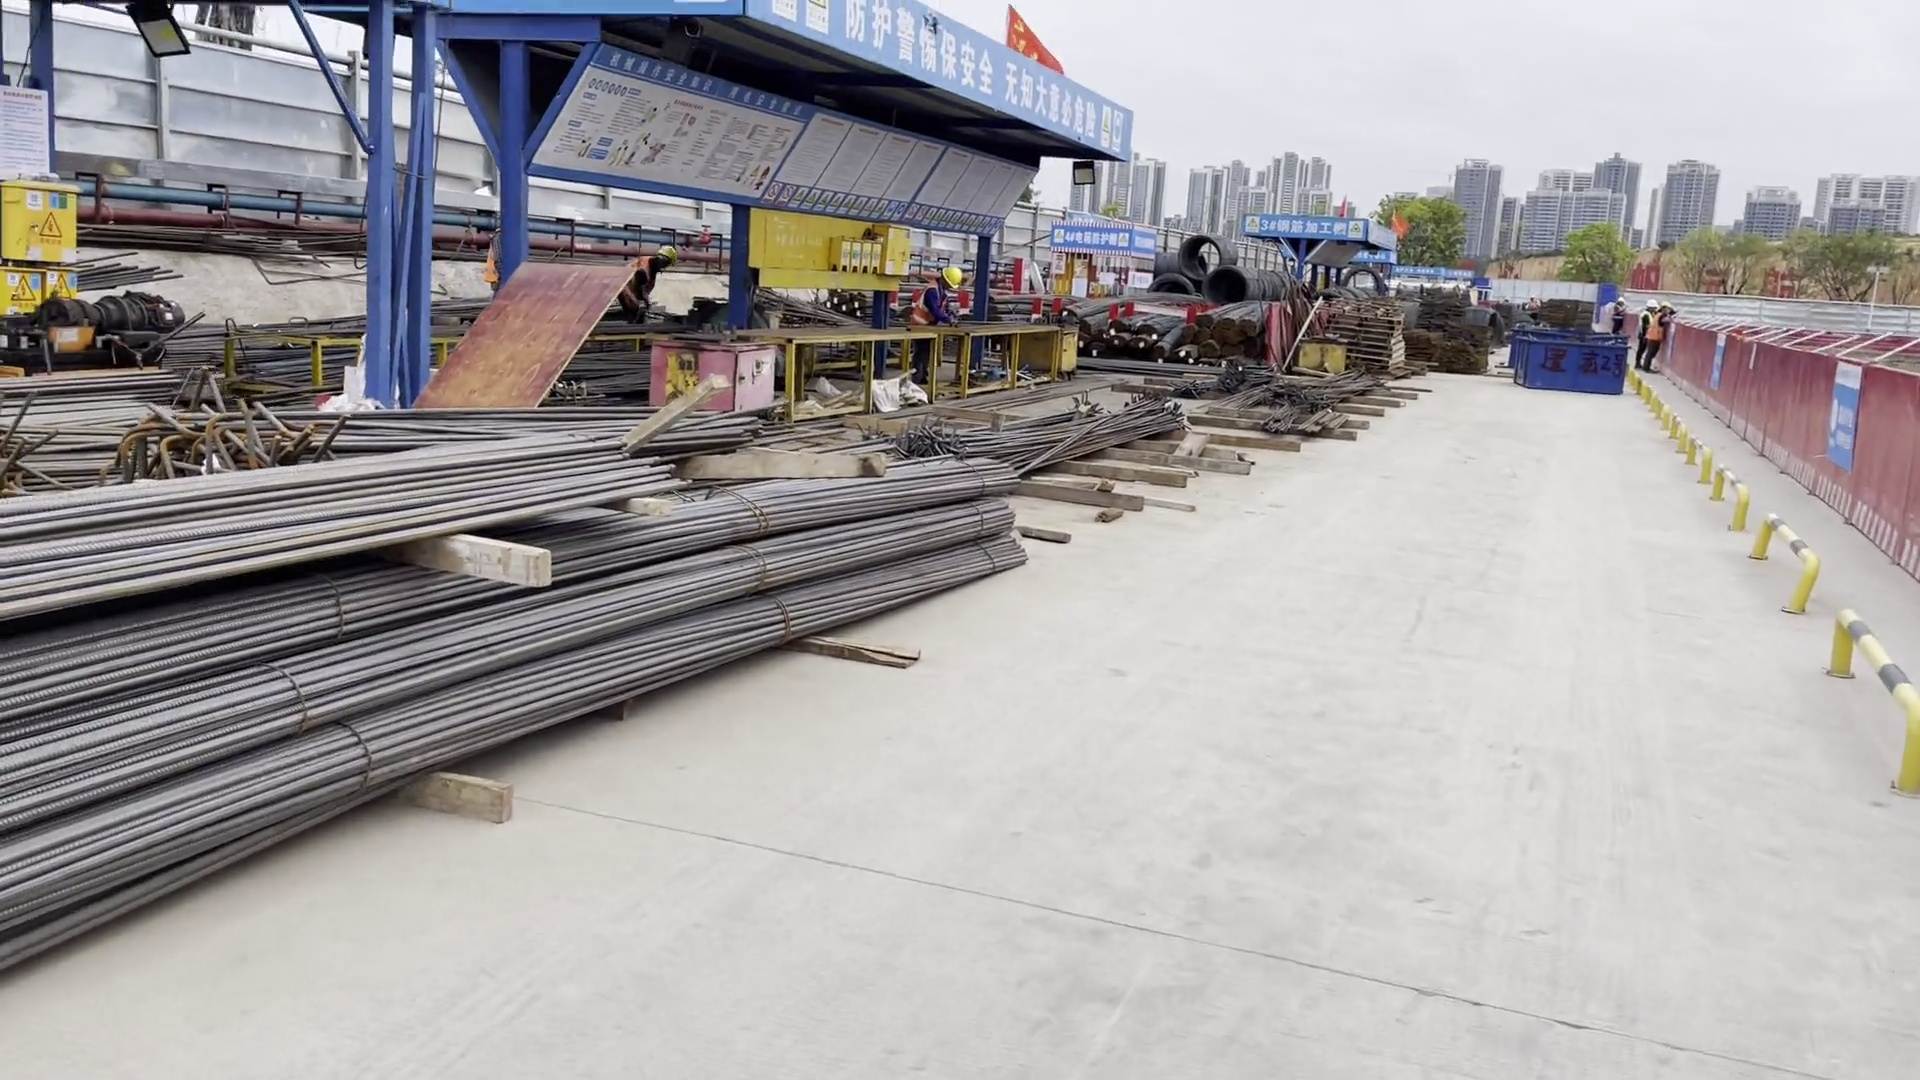ebox: (1, 171, 99, 327), (878, 223, 912, 282)
fence: (1662, 309, 1920, 592)
helmet: (941, 266, 962, 287), (656, 245, 677, 261), (1646, 300, 1656, 309), (1616, 297, 1624, 303), (1661, 302, 1670, 307), (1529, 294, 1534, 298)
hopper: (1506, 331, 1633, 397)
person: (611, 241, 684, 320), (903, 265, 966, 331), (1642, 302, 1678, 373), (1631, 298, 1658, 372), (1610, 295, 1628, 333), (1523, 294, 1542, 313)
rebar: (1, 453, 1010, 946), (1, 405, 707, 620), (912, 391, 1175, 478), (196, 311, 419, 385), (60, 246, 189, 287), (1060, 292, 1210, 315), (1110, 309, 1164, 334), (1217, 301, 1259, 331), (1134, 316, 1185, 335), (1155, 327, 1182, 357), (1083, 310, 1115, 331), (1241, 310, 1269, 332), (1125, 336, 1153, 358), (1105, 335, 1128, 356), (1196, 341, 1221, 356), (1085, 341, 1107, 357), (1175, 347, 1195, 362), (1073, 333, 1088, 351), (1194, 328, 1212, 342)
slogan: (847, 1, 1099, 139)
vest: (618, 259, 653, 302), (913, 284, 942, 321), (1648, 317, 1668, 338), (1637, 313, 1653, 335), (1611, 304, 1624, 320)
